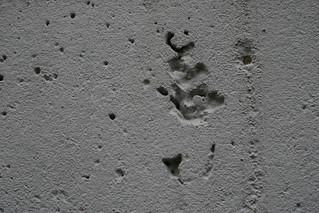Spalling: (1, 1, 226, 213), (242, 54, 252, 66)
